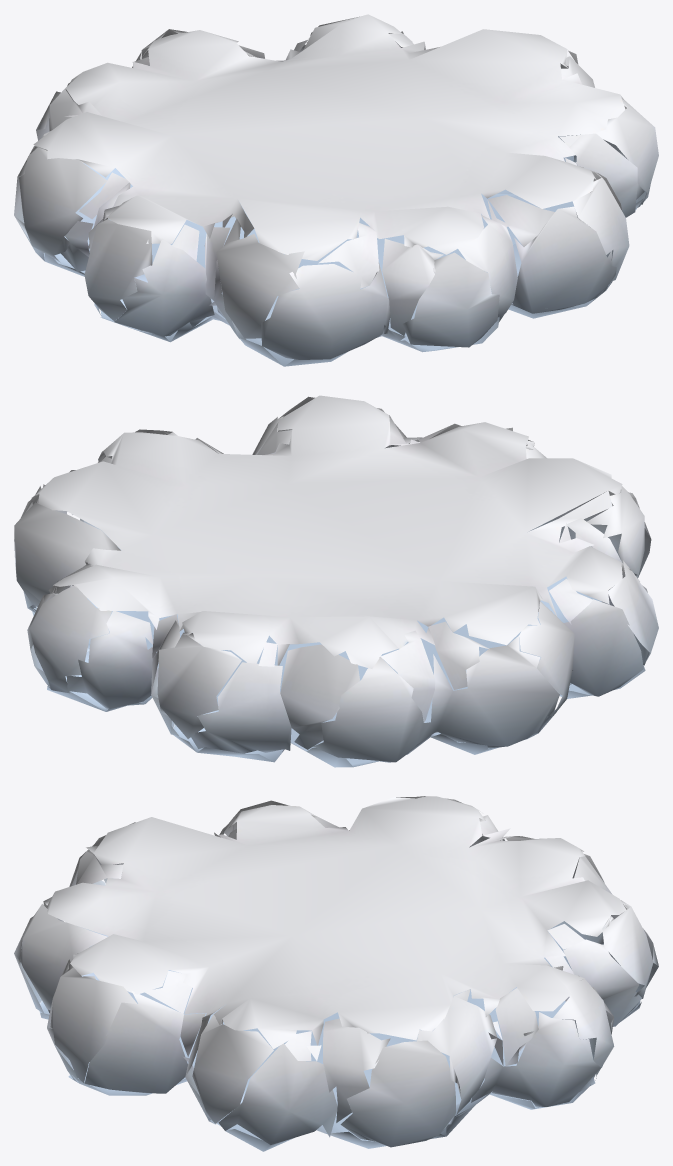
File: CloudPlatform.glb
3 renders of one model, top to bottom at view 1: azimuth 30°, elevation 25°; view 2: azimuth 150°, elevation 25°; view 3: azimuth 270°, elevation 25°, orthographic. The views are drawn at different scales.
Visible parts, largest first — view 1: CloudPlatform; view 2: CloudPlatform; view 3: CloudPlatform.
Boxes of the visible parts, x1,y1,x2,y2 form: CloudPlatform: [14, 14, 658, 366]; CloudPlatform: [14, 395, 658, 767]; CloudPlatform: [14, 796, 658, 1151].
Bounding box in the file's own units: 2.02 × 0.505 × 2.03.
Materials: 1 (1 with a texture image).
